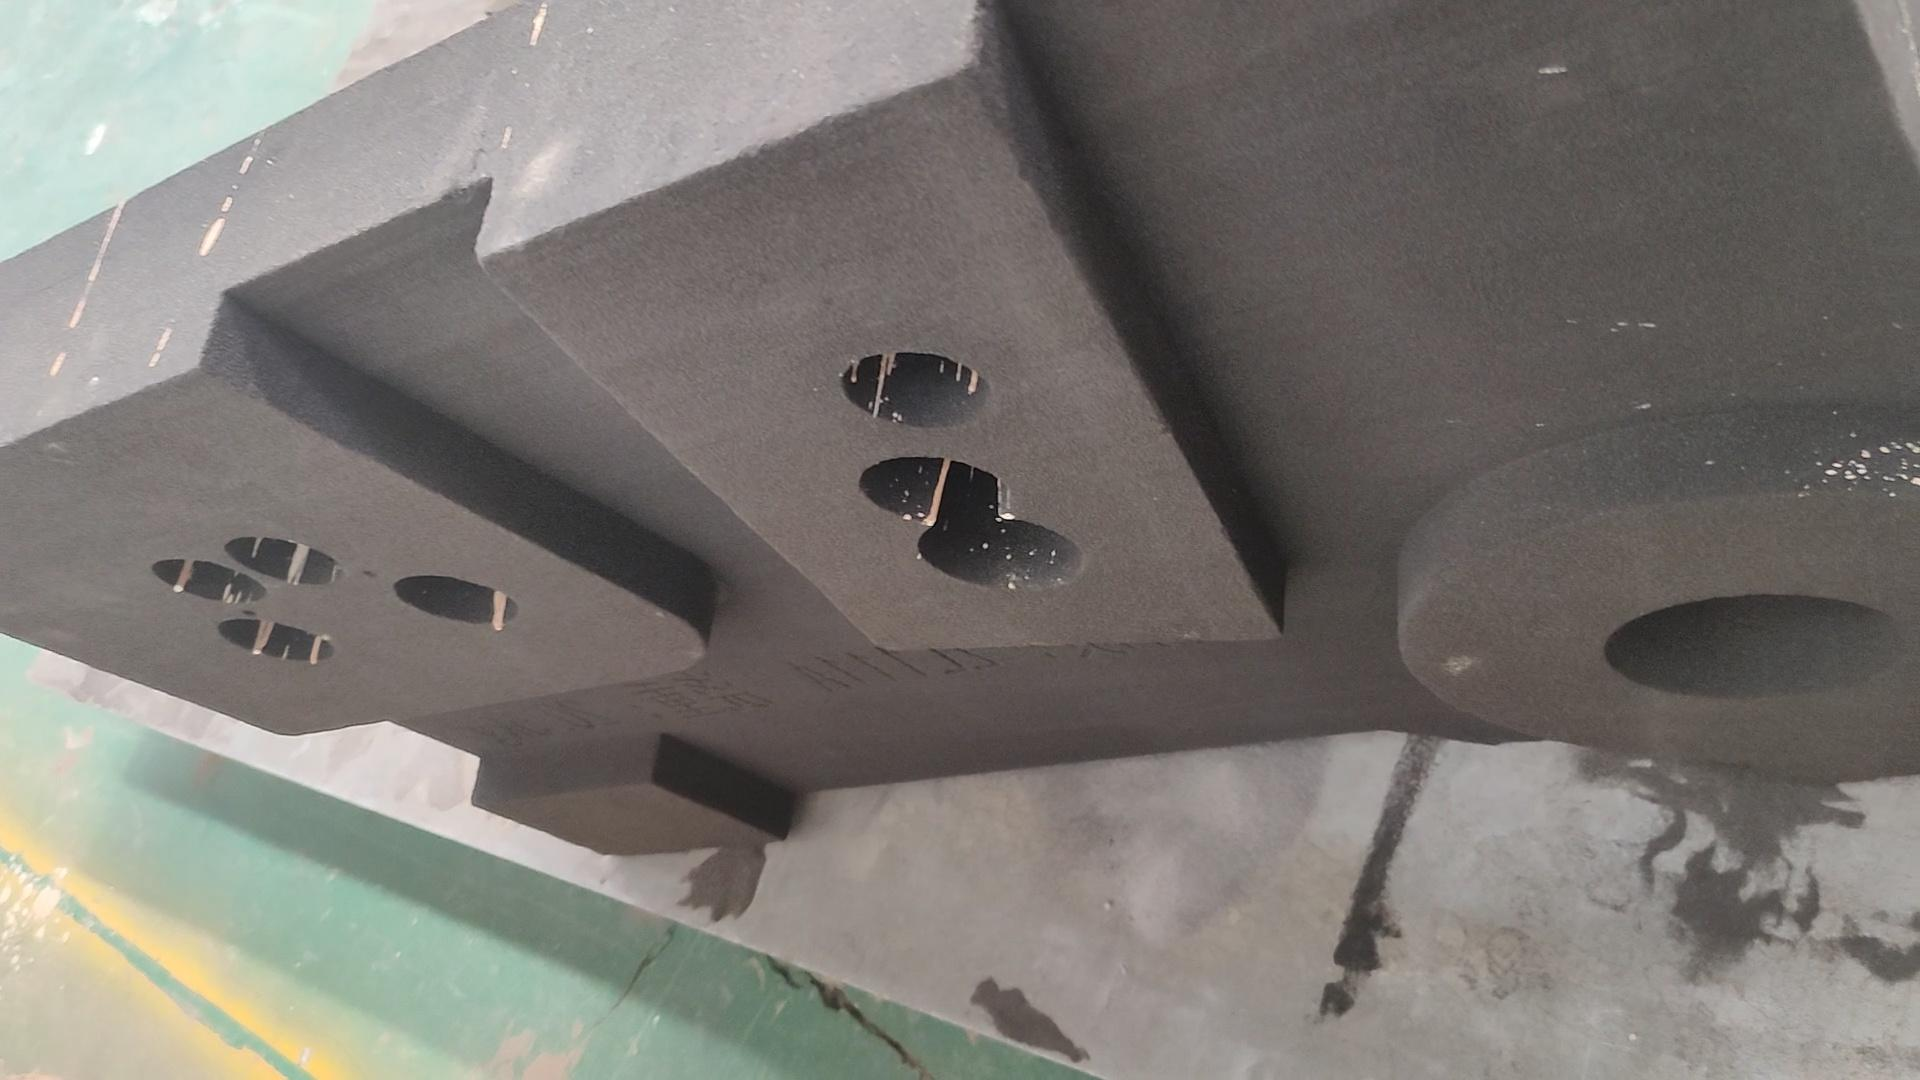pouring hole: (1604, 595, 1904, 695)
